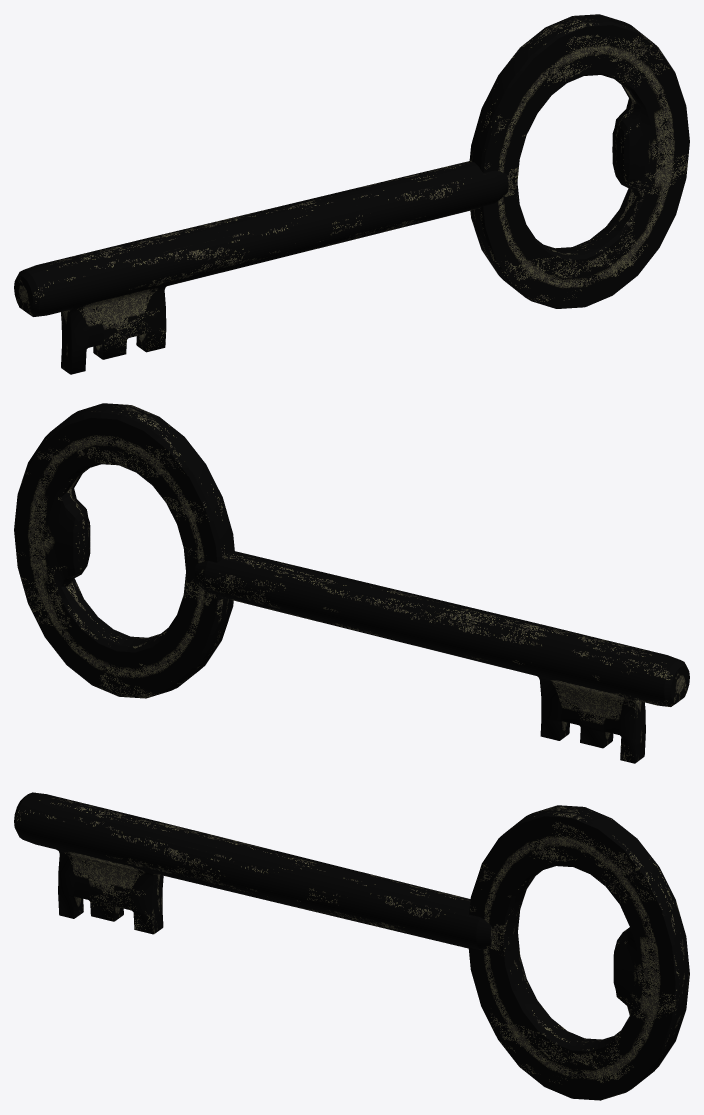
The model's file is Key.glb.
3 renders of one model, top to bottom at view 1: azimuth 30°, elevation 25°; view 2: azimuth 150°, elevation 25°; view 3: azimuth 330°, elevation 25°, orthographic.
Visible parts, largest first — view 1: Key_01; view 2: Key_01; view 3: Key_01.
Boxes of the visible parts, left/top/right/bottom form: Key_01: left=14, top=14, right=689, bottom=374; Key_01: left=14, top=403, right=689, bottom=763; Key_01: left=14, top=792, right=689, bottom=1100.
Bounding box in the file's own units: 0.3102 × 0.1278 × 0.0207.
1 material, 1 textured.
